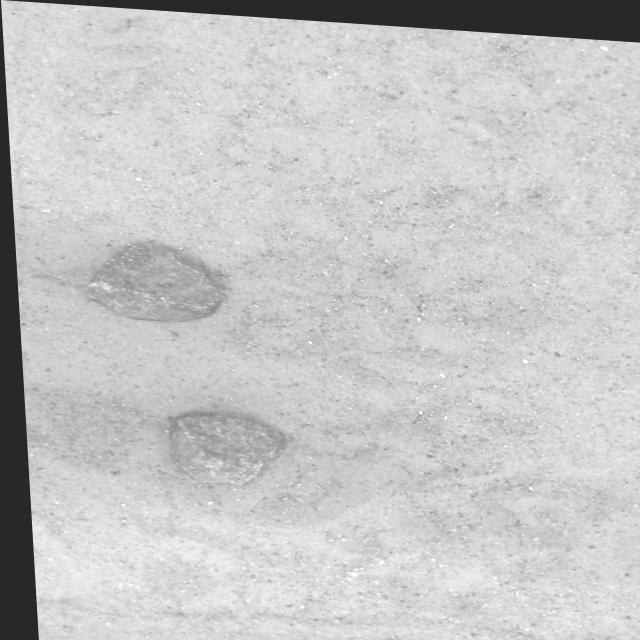rock: (83, 243, 219, 319), (165, 413, 279, 483)
